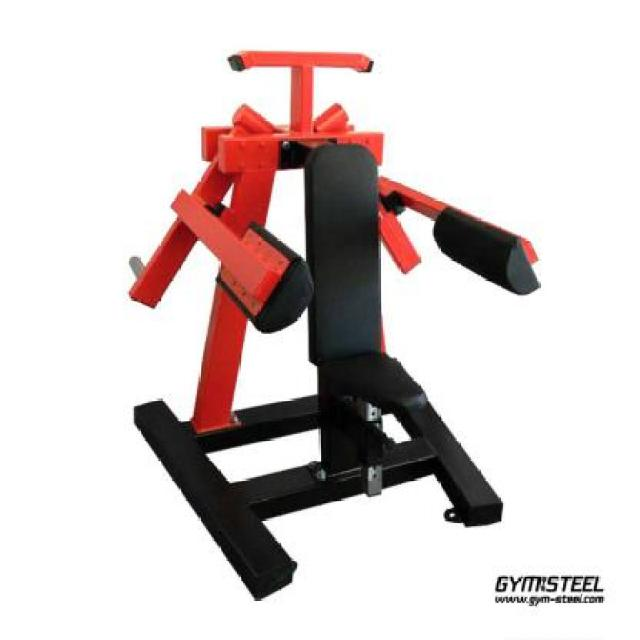lateral raises machine: (124, 46, 542, 528)
